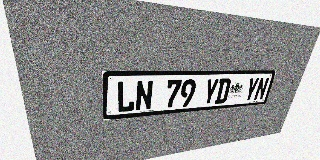7: (164, 79, 182, 109)
9: (179, 79, 197, 107)
D: (214, 78, 232, 104)
L: (116, 81, 135, 113)
N: (135, 80, 154, 111), (253, 77, 270, 100)
Y: (202, 78, 219, 105), (243, 77, 260, 101)
